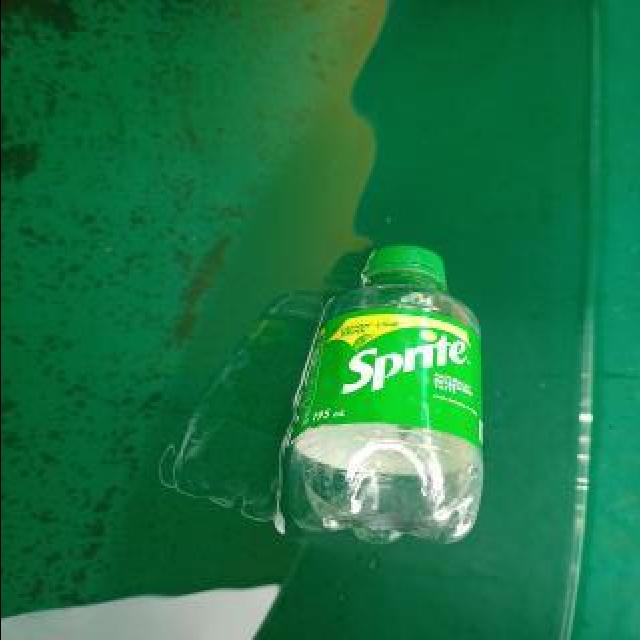Bottle: (274, 235, 490, 556)
